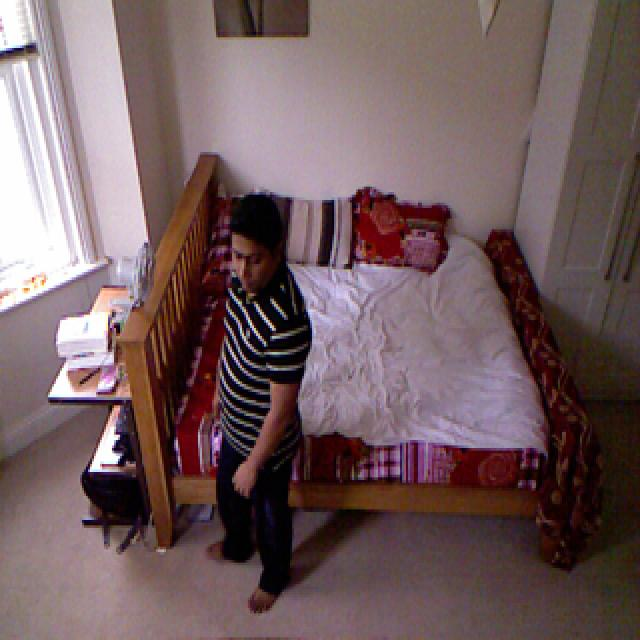standing: (209, 186, 316, 626)
